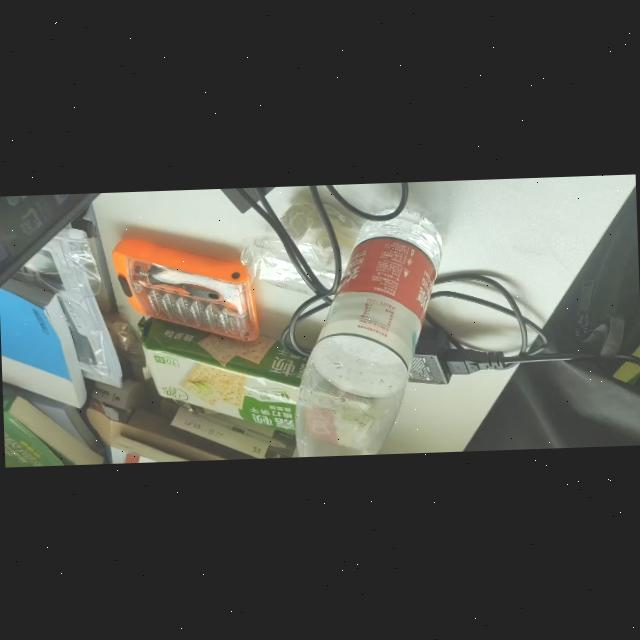trash: (281, 200, 452, 458)
